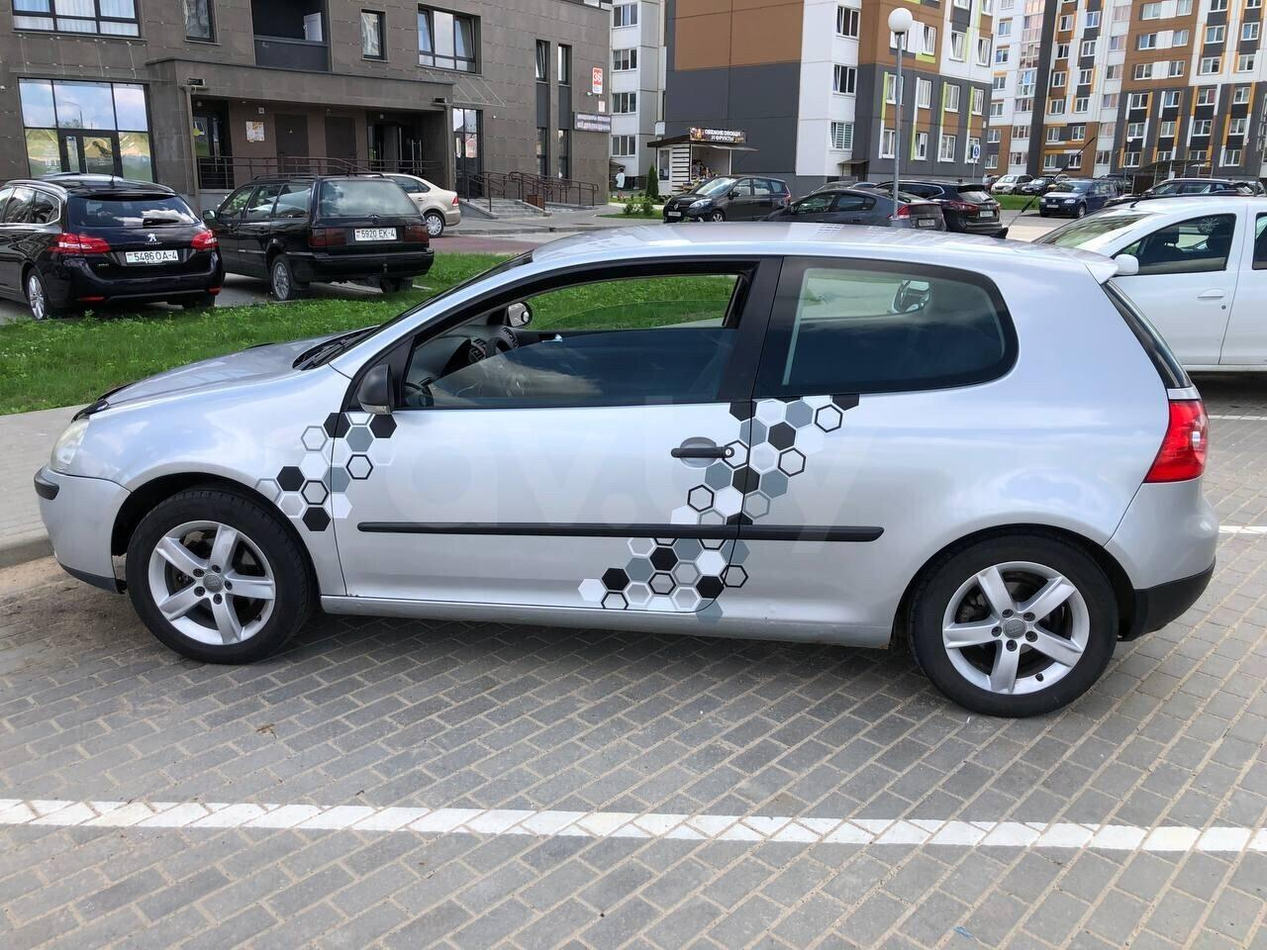Golf_2003-2009: (36, 220, 1216, 719)
